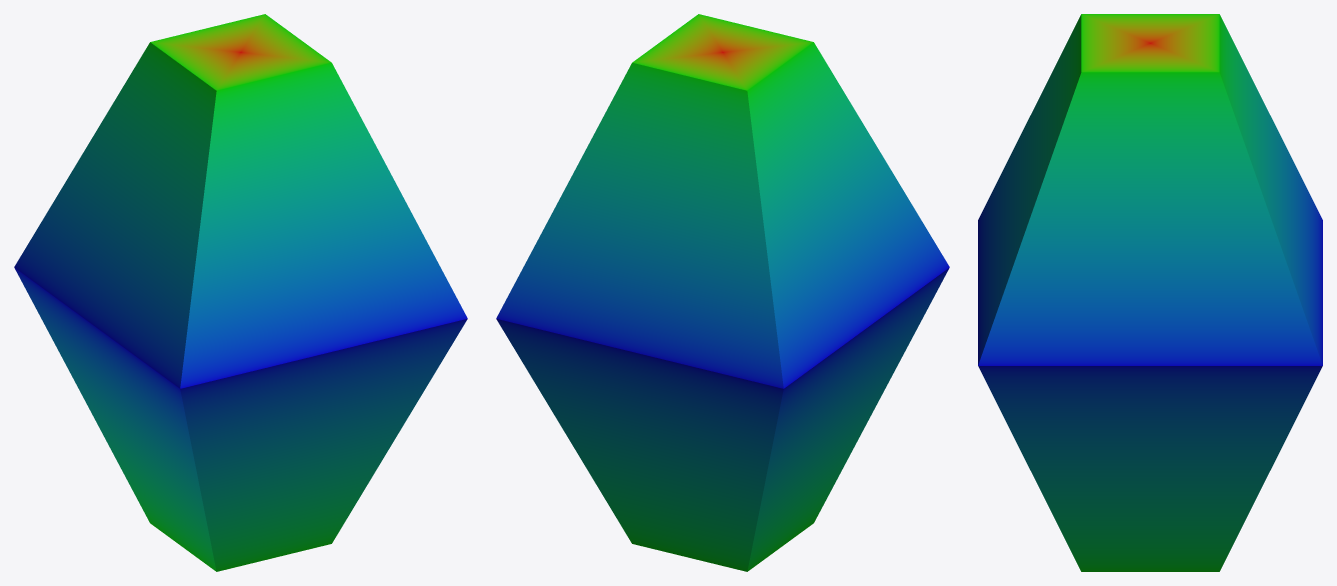
3 renders of one model, left to right at view 1: azimuth 30°, elevation 25°; view 2: azimuth 150°, elevation 25°; view 3: azimuth 270°, elevation 25°, orthographic. The views are drawn at different scales.
Visible parts, largest first — view 1: base_shape; view 2: base_shape; view 3: base_shape.
Part boxes in pixels (left/top/right/bottom): base_shape: left=14, top=14, right=467, bottom=571; base_shape: left=496, top=14, right=949, bottom=571; base_shape: left=978, top=14, right=1322, bottom=571.
Bounding box in the file's own units: 0.291 × 0.465 × 0.291.
